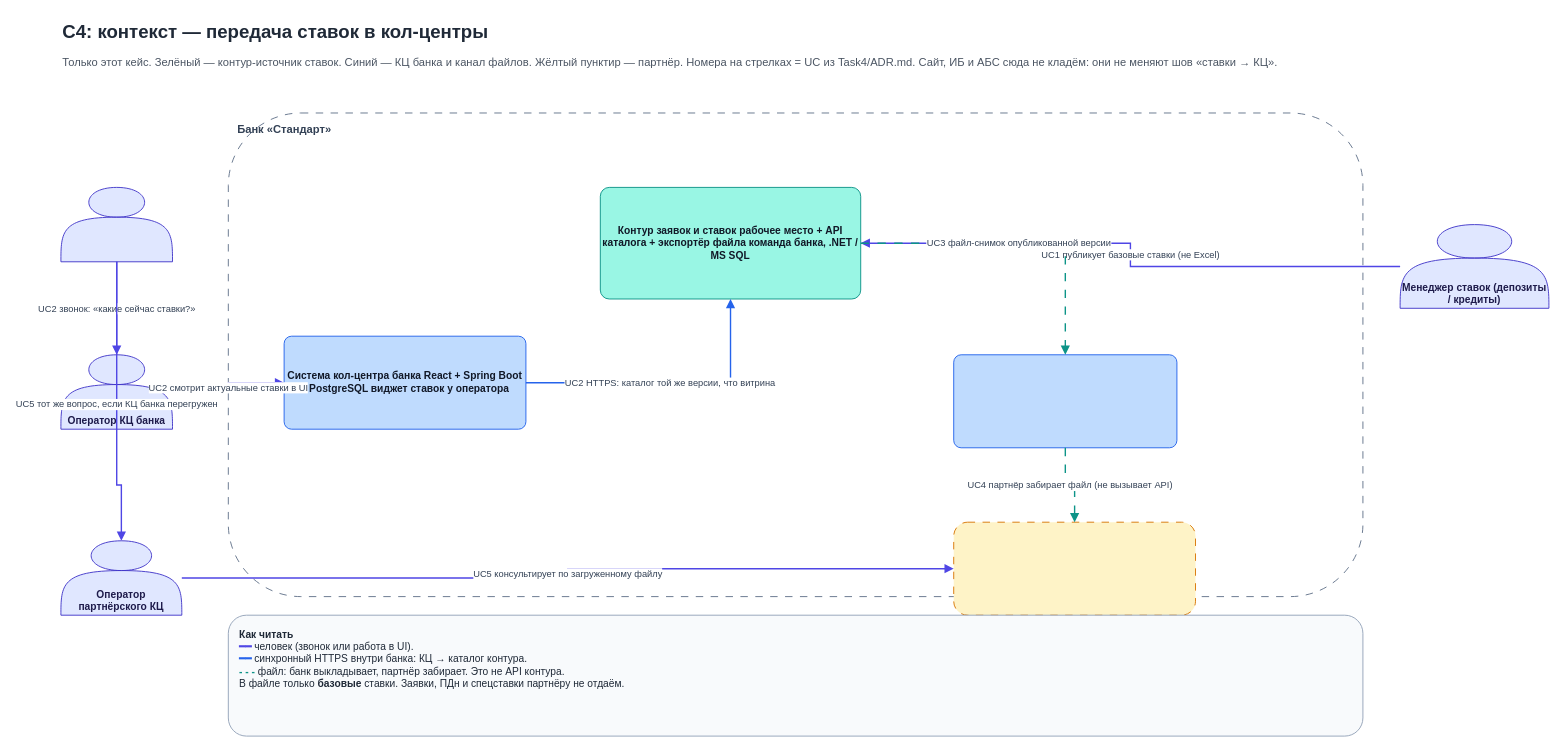
The diagram is 1565 pixels wide and 752 high, and some of its shapes have lost their labels. Here are the shapes that lost their labels. From the top down, the centre of each, then its label:
At (116,224): "Клиент (часто пожилой)".
At (1065,401): "Канал выкладки файлов каталог + УЗ партнёра сопровождает IT банка".
At (1074,568): "Система партнёрского КЦ внешняя ИС, не API банка забор файла + свои скрипты".
